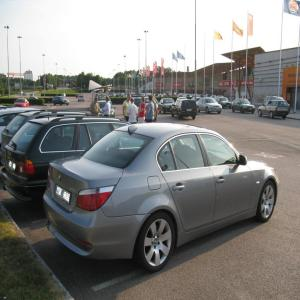Vehicle-registration-plate: (56, 185, 73, 207)
